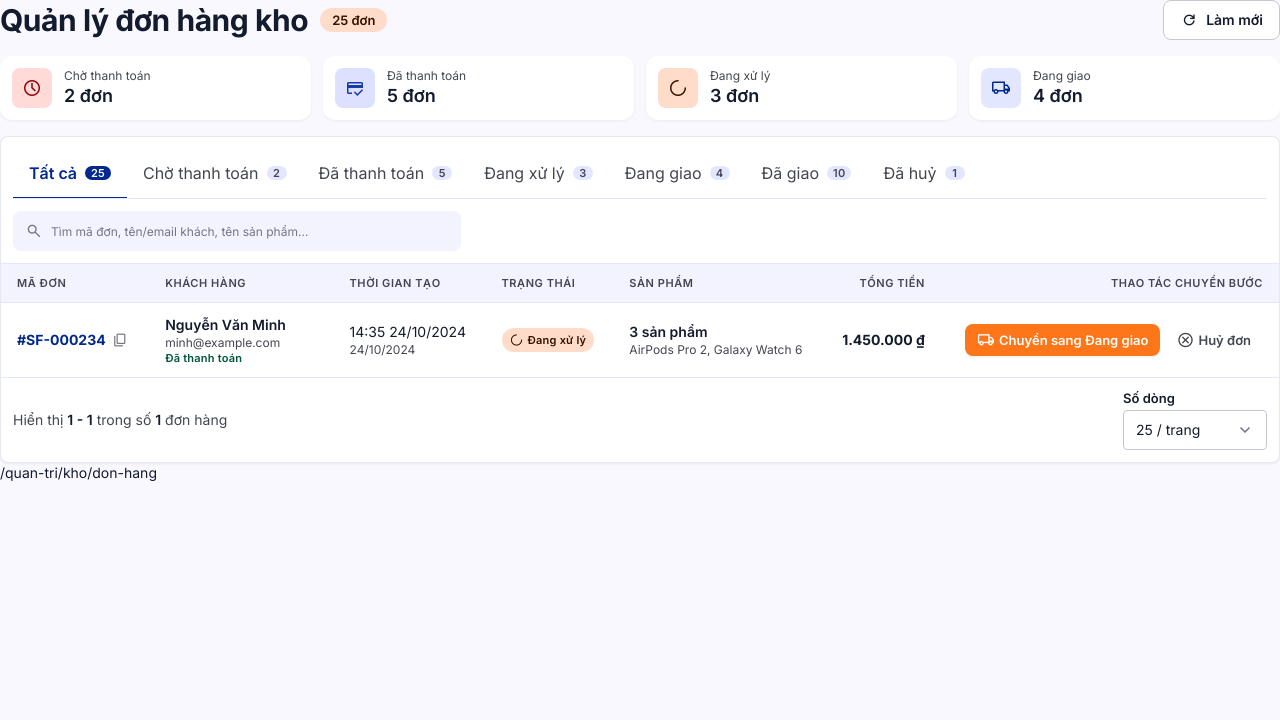
Test case: WarehouseOrdersPage › chuyển trạng thái: modal xác nhận, PATCH đúng body, toast và tải lại
Click the button "Chuyển sang Đang giao" at (1063, 340), box x1=965 y1=324 x2=1160 y2=356
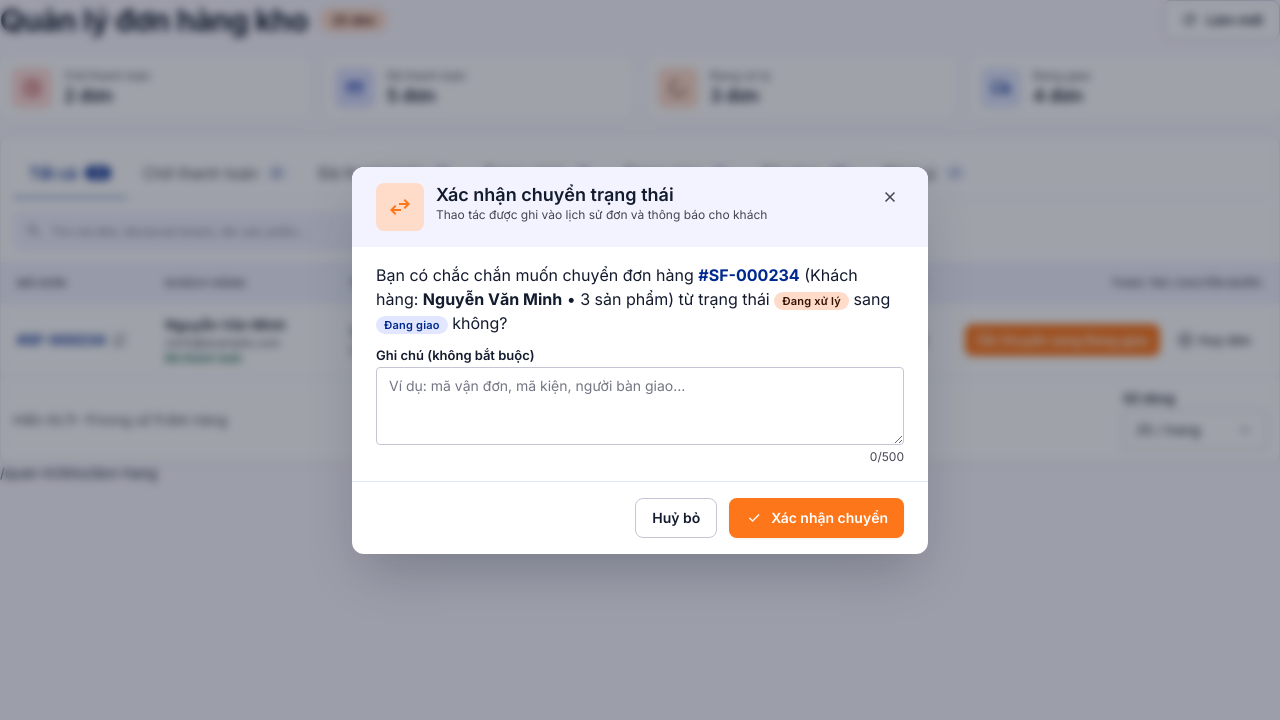
Expected: the dialog "Xác nhận chuyển trạng thái" shows "#SF-000234", x1=352 y1=166 x2=928 y2=554
Expected: the dialog "Xác nhận chuyển trạng thái" shows "Nguyễn Văn Minh • 3 sản phẩm", x1=352 y1=166 x2=928 y2=554
Type "GHN-123456" into the text box labelled "Ghi chú (không bắt buộc)" at (640, 406), box x1=376 y1=366 x2=904 y2=444
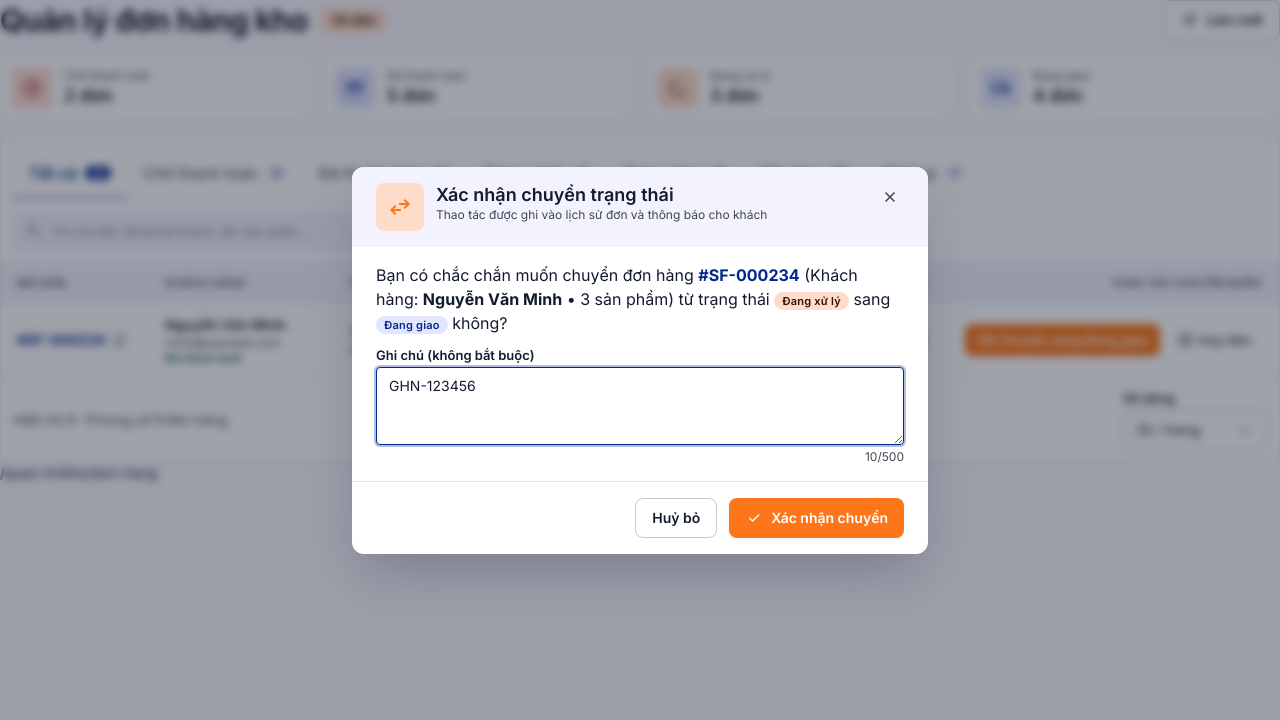
Click the button "Xác nhận chuyển" at (817, 518), box x1=729 y1=498 x2=904 y2=538
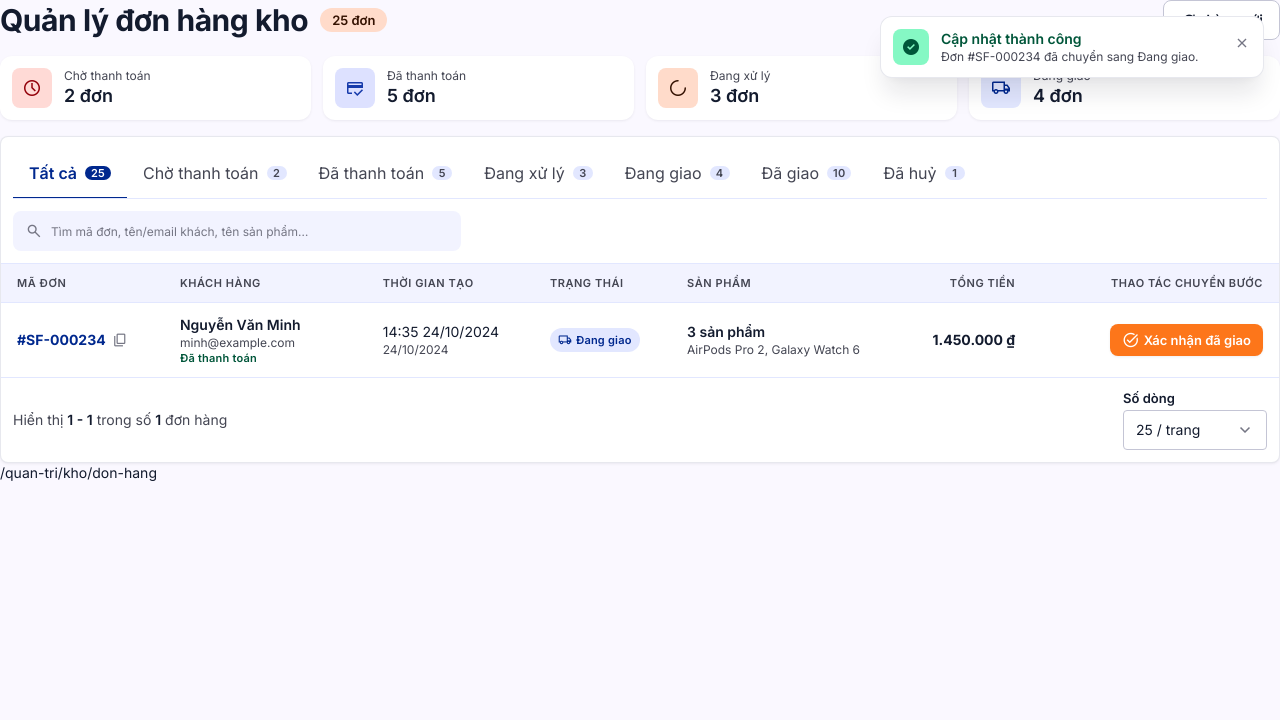
Expected: the text "Cập nhật thành công" is shown, x1=941 y1=30 x2=1082 y2=47
Expected: the text "Đơn #SF-000234 đã chuyển sang Đang giao." is shown, x1=941 y1=49 x2=1221 y2=65
Expected: the dialog is gone
